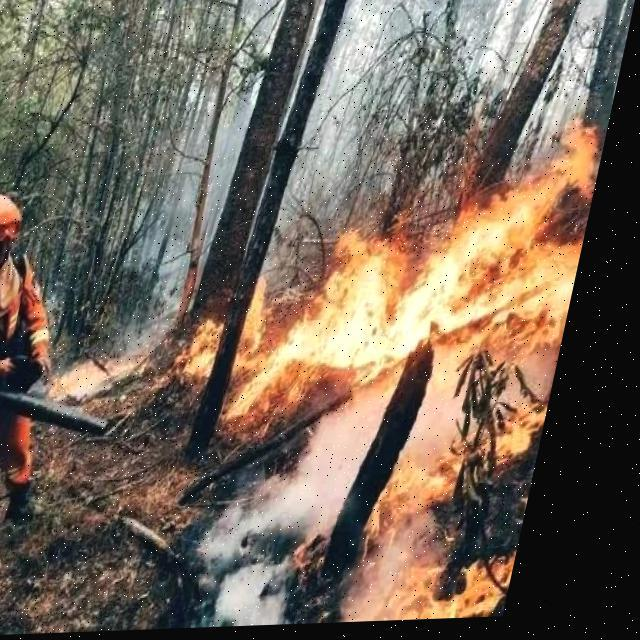Fire: (177, 126, 610, 624)
